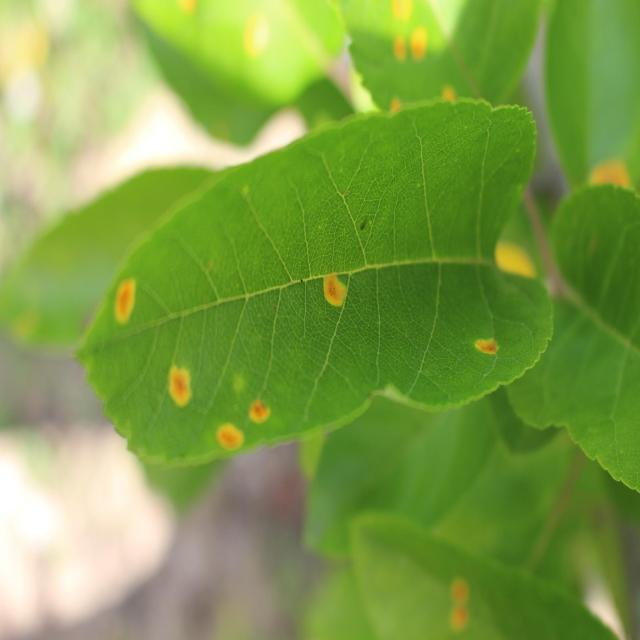Rust: (91, 268, 149, 336), (460, 321, 508, 373), (320, 255, 354, 328), (165, 349, 195, 426), (209, 408, 248, 459), (241, 392, 274, 434)
